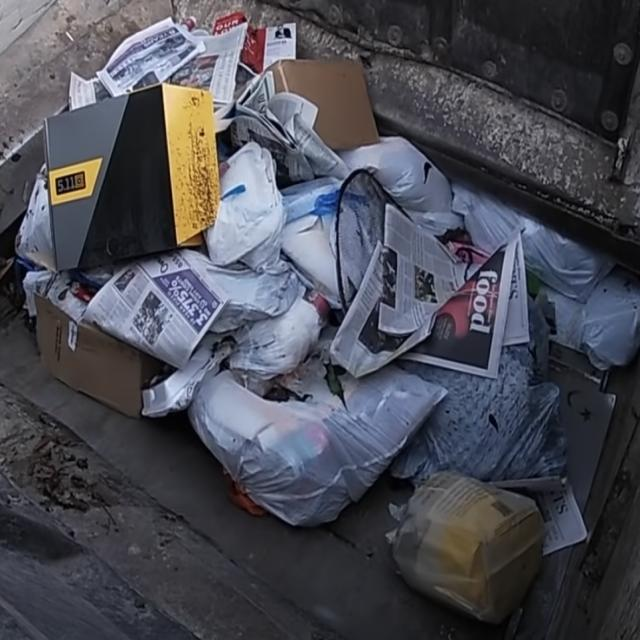bag: (186, 346, 424, 518), (540, 228, 638, 373)
cardboard: (43, 69, 226, 273), (30, 275, 216, 410), (238, 39, 381, 160)
paper: (343, 191, 537, 400), (391, 458, 545, 636), (126, 13, 292, 97)
